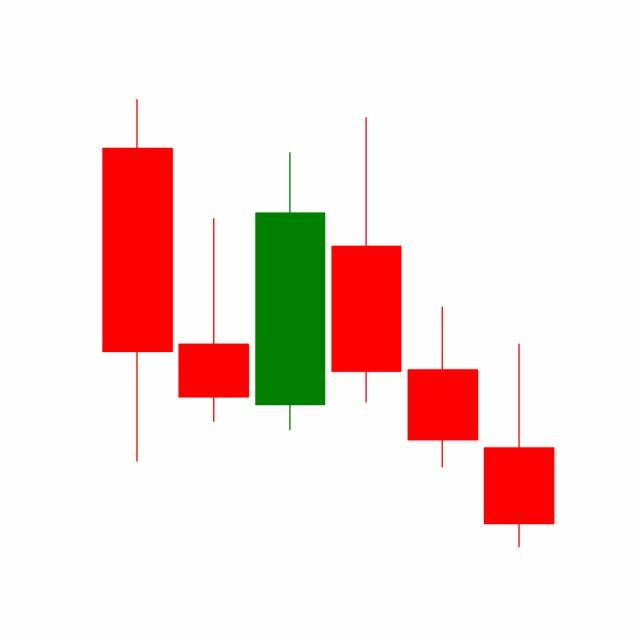Identical Three Crows: (326, 113, 555, 549)
